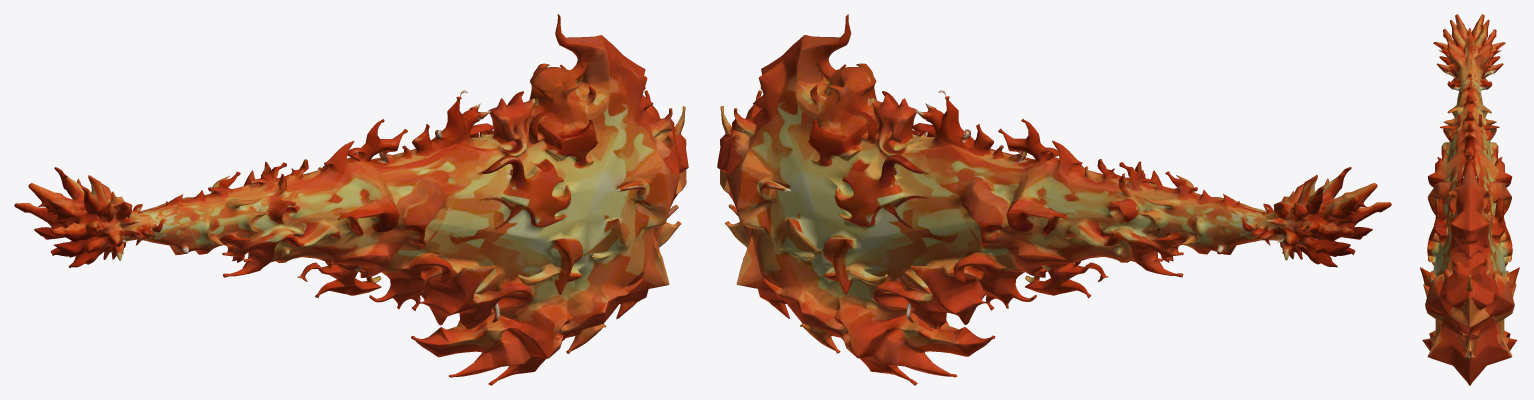
The model's file is dragon_c.glb.
3 renders of one model, left to right at view 1: azimuth 30°, elevation 25°; view 2: azimuth 150°, elevation 25°; view 3: azimuth 270°, elevation 25°, orthographic. The views are drawn at different scales.
Visible parts, largest first — view 1: tripo_node_5547794d-ec6a-4436-8f98-80f9e610fe3c; view 2: tripo_node_5547794d-ec6a-4436-8f98-80f9e610fe3c; view 3: tripo_node_5547794d-ec6a-4436-8f98-80f9e610fe3c.
Boxes of the visible parts, x1=… form: tripo_node_5547794d-ec6a-4436-8f98-80f9e610fe3c: x1=14, y1=14, x2=688, y2=385; tripo_node_5547794d-ec6a-4436-8f98-80f9e610fe3c: x1=717, y1=14, x2=1391, y2=385; tripo_node_5547794d-ec6a-4436-8f98-80f9e610fe3c: x1=1420, y1=14, x2=1519, y2=385.
Bounding box in the file's own units: 0.9798 × 0.5085 × 0.1923.
1 material, 1 textured.
